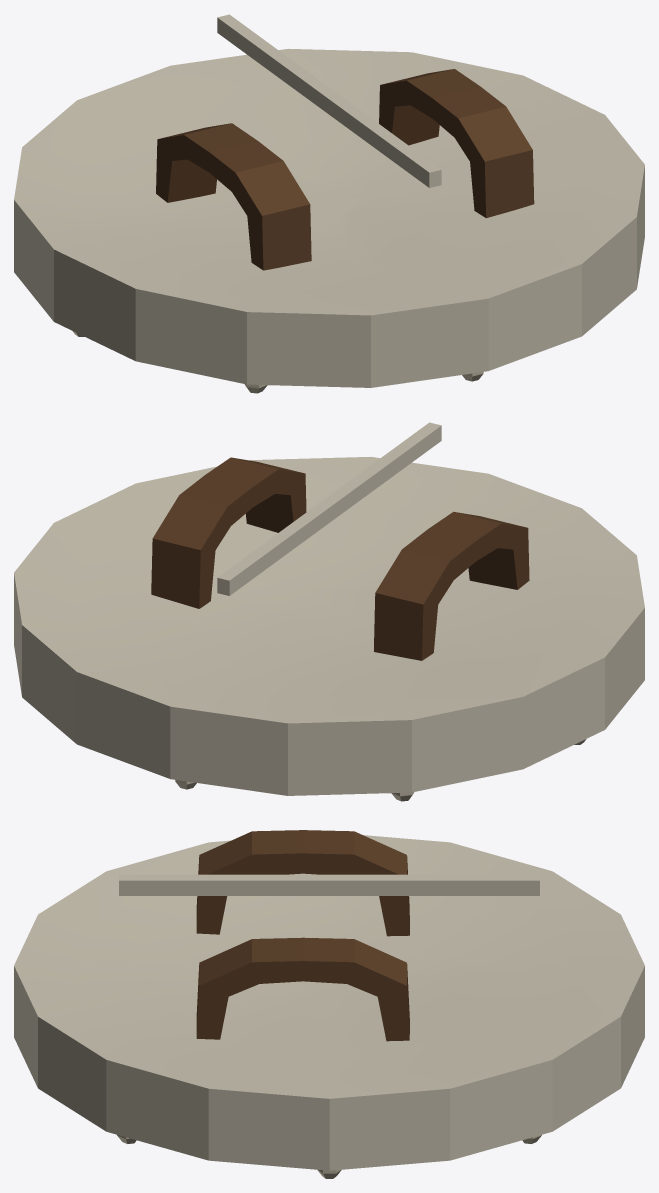
The model's file is bone-light-shield.glb.
3 renders of one model, top to bottom at view 1: azimuth 30°, elevation 25°; view 2: azimuth 150°, elevation 25°; view 3: azimuth 270°, elevation 25°, orthographic.
Parts seen in each view (by area): view 1: m; view 2: m; view 3: m.
Boxes of the visible parts, box(x1,y1,x2,y2) form: m: box(14, 14, 644, 393); m: box(14, 422, 644, 801); m: box(14, 830, 644, 1178).
Size of the model in its own units: 0.34 by 0.1125 by 0.34.
